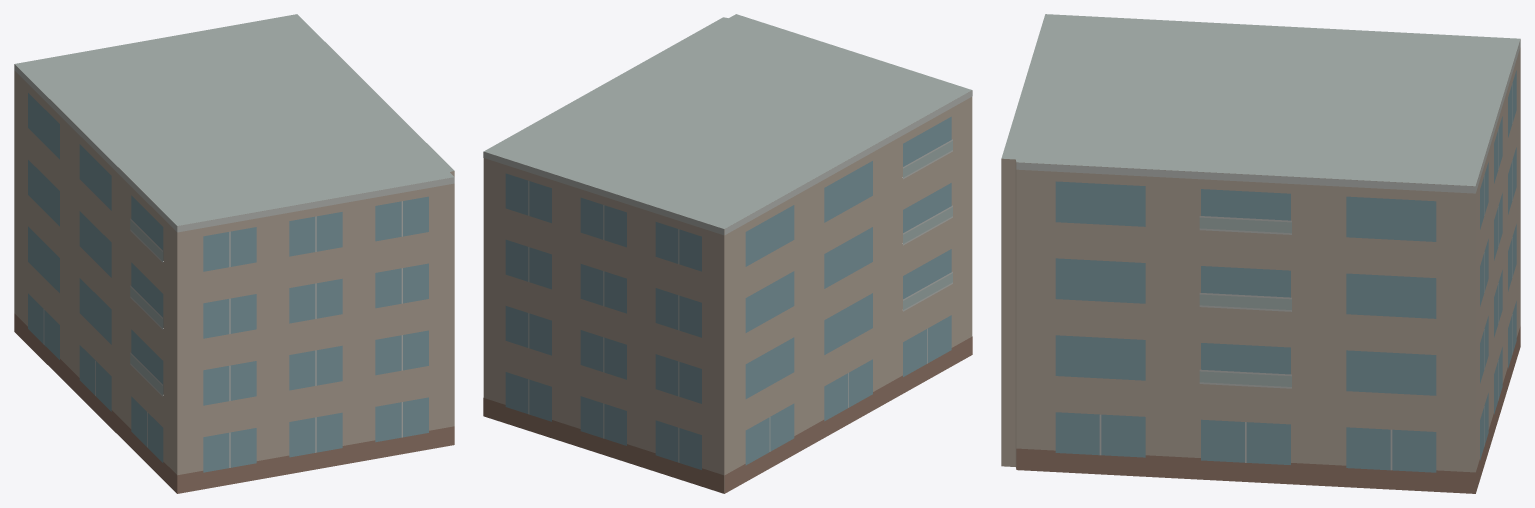
Rendered from survey-upis-32890804.glb.
The picture shows the model from 3 angles, left to right: view 1: azimuth 30°, elevation 25°; view 2: azimuth 150°, elevation 25°; view 3: azimuth 270°, elevation 25°; orthographic projection. The views are drawn at different scales.
Visible parts, largest first — view 1: survey-upis-32890804.tmp; view 2: survey-upis-32890804.tmp; view 3: survey-upis-32890804.tmp.
Part boxes in pixels (x1=…): survey-upis-32890804.tmp: x1=14, y1=14, x2=454, y2=493; survey-upis-32890804.tmp: x1=483, y1=14, x2=972, y2=493; survey-upis-32890804.tmp: x1=1001, y1=14, x2=1520, y2=493.
Bounding box in the file's own units: 12.26 × 10.2 × 15.61.
